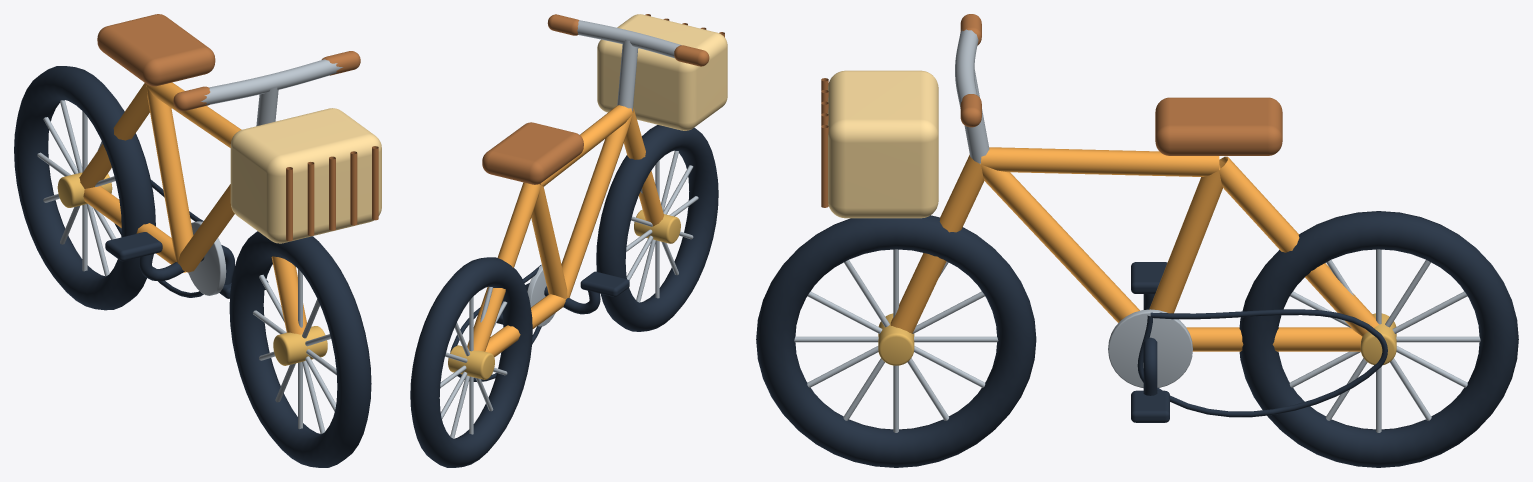
File: bicycle.glb
The picture shows the model from 3 angles, left to right: view 1: azimuth 30°, elevation 25°; view 2: azimuth 150°, elevation 25°; view 3: azimuth 270°, elevation 25°; orthographic projection. The views are drawn at different scales.
Visible parts, largest first — view 1: Ink, Butter, Tangerine, Satin alloy, Honey bear, Brass; view 2: Ink, Tangerine, Butter, Satin alloy, Honey bear, Brass; view 3: Ink, Tangerine, Satin alloy, Butter, Honey bear, Brass.
Boxes of the visible parts, x1,y1,x2,y2 form: Ink: [14, 66, 371, 467]; Butter: [230, 108, 381, 243]; Tangerine: [79, 82, 306, 334]; Satin alloy: [37, 59, 342, 433]; Honey bear: [97, 14, 378, 241]; Brass: [57, 172, 327, 365]; Ink: [410, 125, 718, 467]; Tangerine: [467, 105, 663, 357]; Butter: [597, 14, 727, 130]; Satin alloy: [440, 20, 698, 438]; Honey bear: [482, 14, 724, 184]; Brass: [448, 209, 680, 379]; Ink: [756, 211, 1518, 467]; Tangerine: [890, 147, 1379, 351]; Satin alloy: [794, 29, 1480, 432]; Butter: [827, 70, 938, 218]; Honey bear: [821, 14, 1282, 207]; Brass: [878, 313, 1396, 365].
Size of the model in its own units: 0.73 by 1.37 by 2.34.
